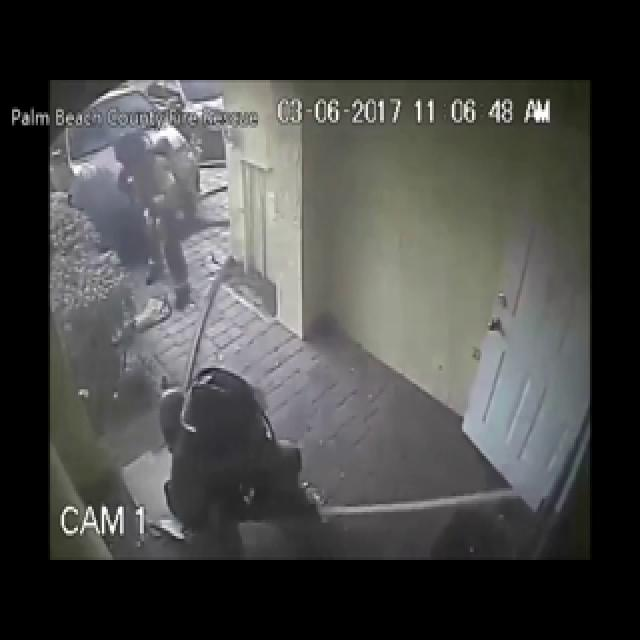explosion: (66, 71, 302, 423)
